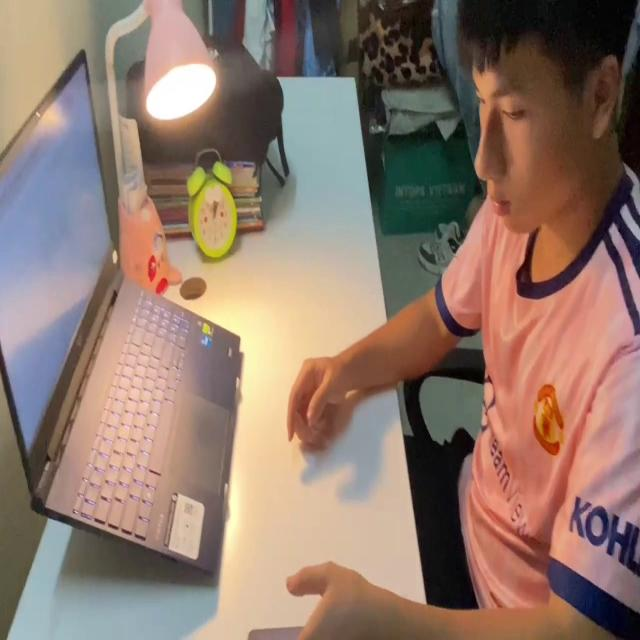laptop: (0, 44, 243, 578)
student: (284, 0, 640, 640)
